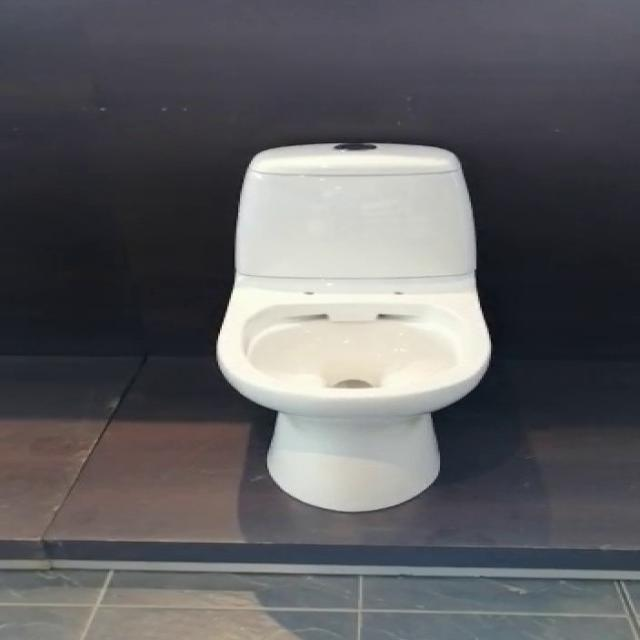toilet: (215, 141, 492, 512)
